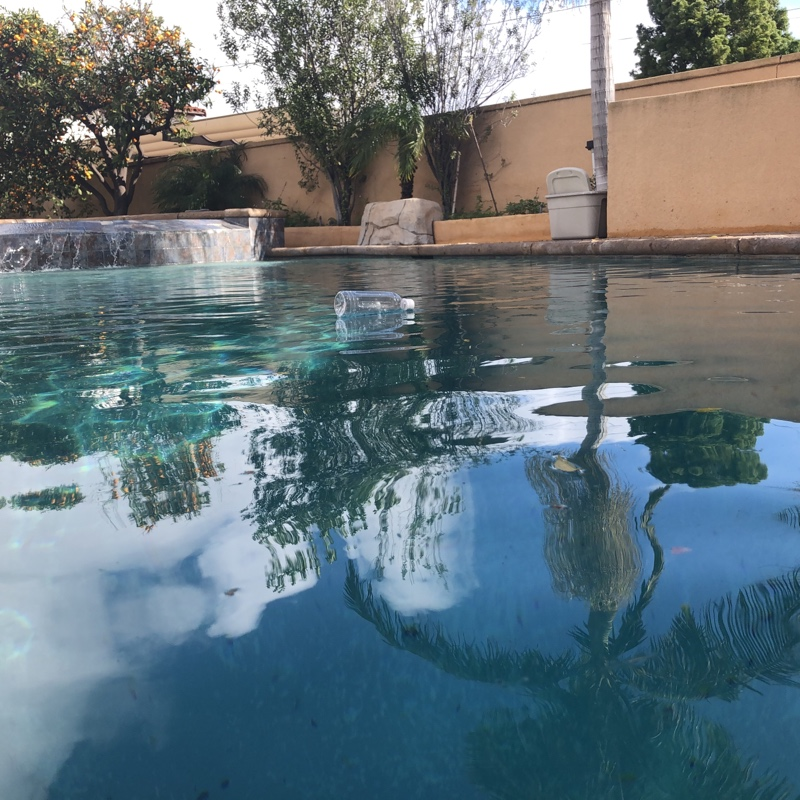Plastic Bottle: (331, 289, 416, 317)
